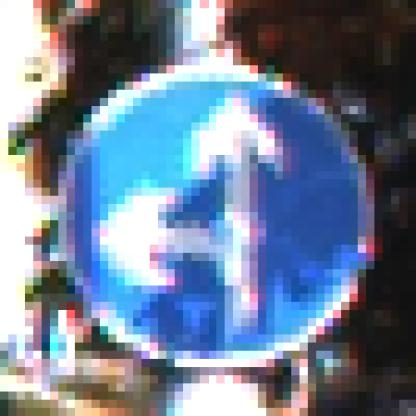Straight or Left: (43, 50, 376, 368)
